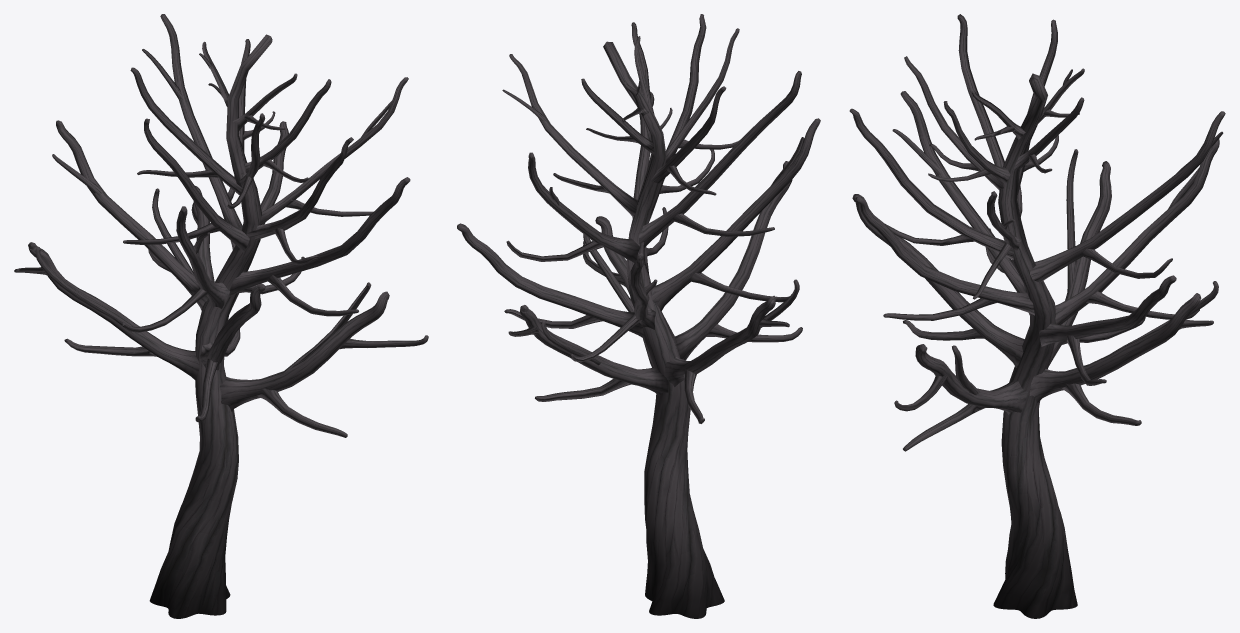
Rendered from DeadTree_1.gltf.
3 renders of one model, left to right at view 1: azimuth 30°, elevation 25°; view 2: azimuth 150°, elevation 25°; view 3: azimuth 270°, elevation 25°, orthographic. The views are drawn at different scales.
Parts seen in each view (by area): view 1: DeadTree_1; view 2: DeadTree_1; view 3: DeadTree_1.
Part boxes in pixels (<box>): DeadTree_1: <box>14,14,428,618</box>; DeadTree_1: <box>457,14,820,618</box>; DeadTree_1: <box>849,14,1225,618</box>.
Bounding box in the file's own units: 6.15 × 9.5 × 5.75.
1 material, 1 textured.
